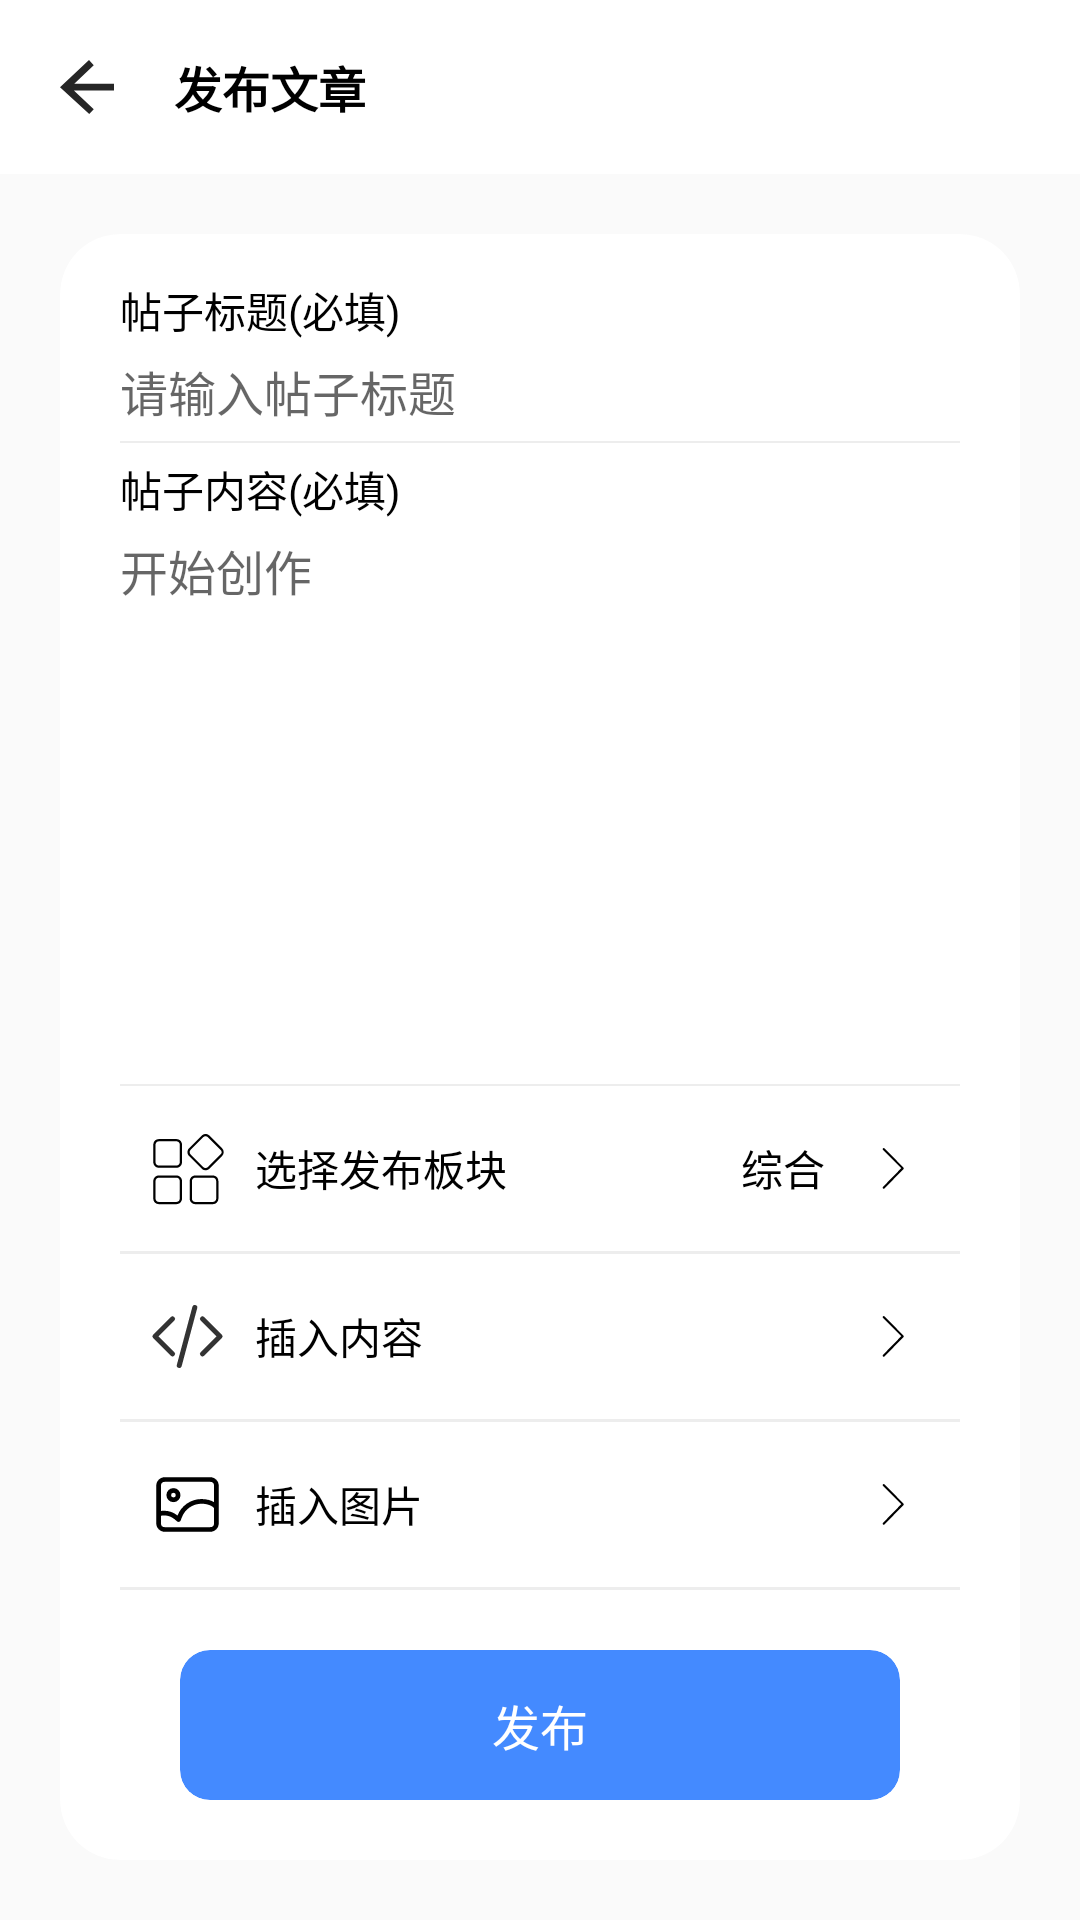

Icons on this 1080x1920 Android screen, each with its box as {"x1": x1, "y1": y1, "x2": x2, "y2": y2}:
left: {"x1": 60, "y1": 60, "x2": 114, "y2": 114}
right: {"x1": 882, "y1": 1148, "x2": 904, "y2": 1189}, {"x1": 882, "y1": 1316, "x2": 904, "y2": 1357}, {"x1": 882, "y1": 1484, "x2": 904, "y2": 1525}
sort: {"x1": 153, "y1": 1134, "x2": 224, "y2": 1205}
upcode: {"x1": 152, "y1": 1305, "x2": 223, "y2": 1368}
